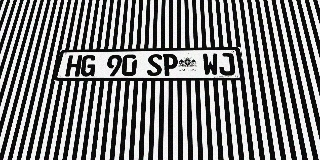plate: (54, 47, 244, 81)
